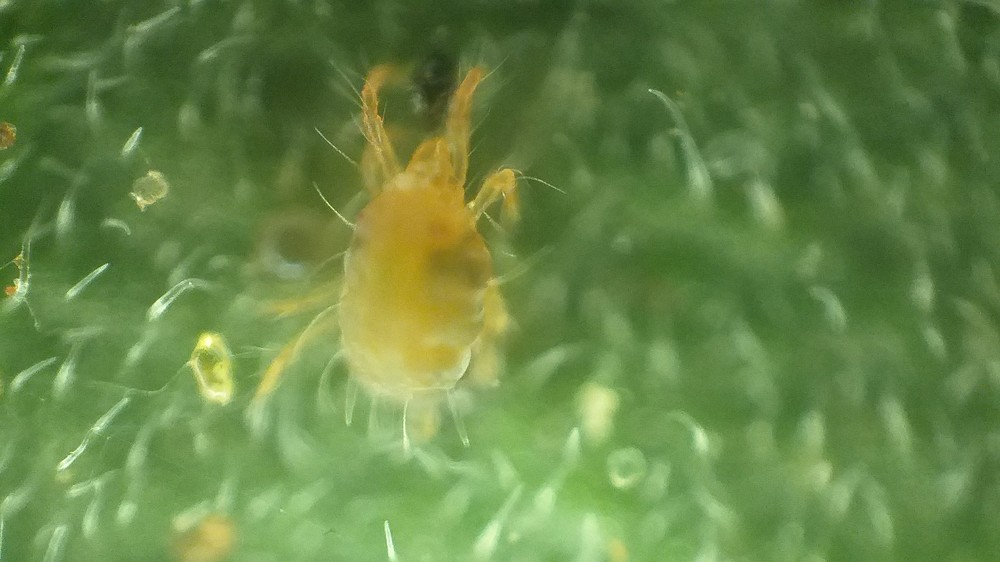Aracnido Rojo: (254, 52, 575, 455)
